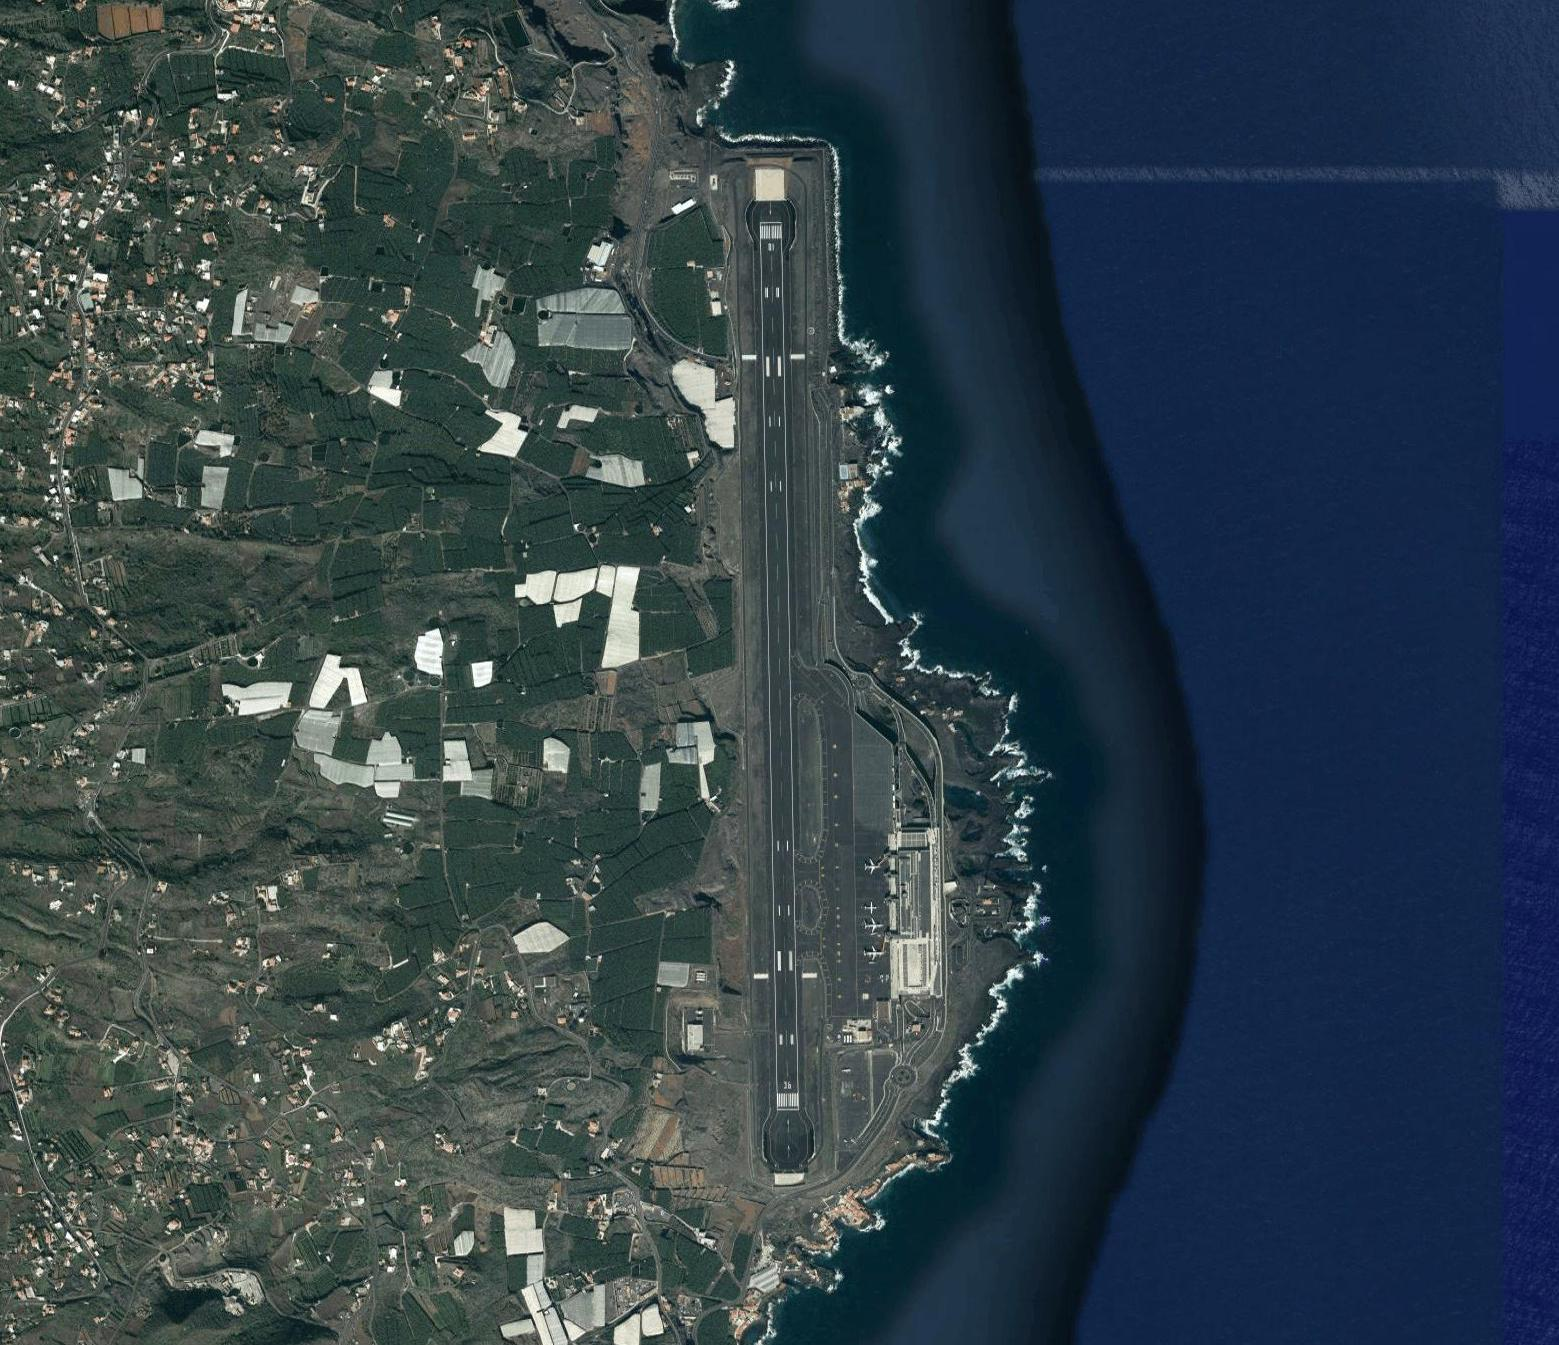airport: (679, 136, 990, 1250)
